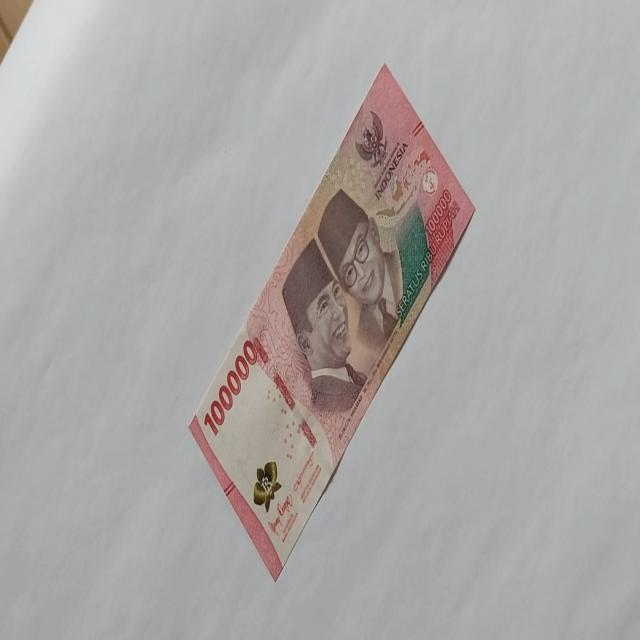seratus ribu rupiah: (188, 62, 477, 580)
